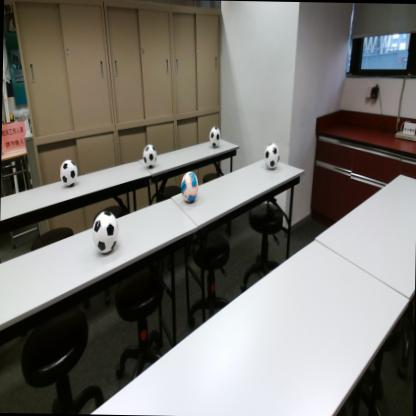ball: (90, 208, 120, 256), (179, 168, 199, 204), (58, 157, 78, 189), (263, 141, 280, 170), (142, 142, 157, 170), (208, 125, 220, 148)
